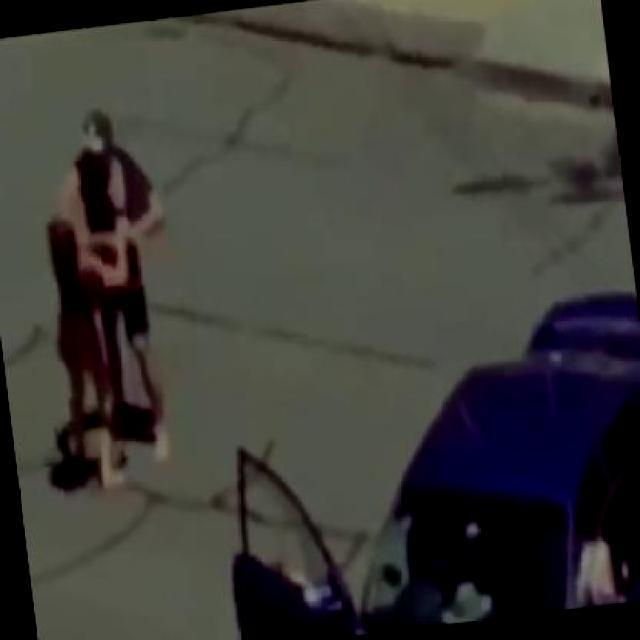fight: (22, 100, 193, 492)
